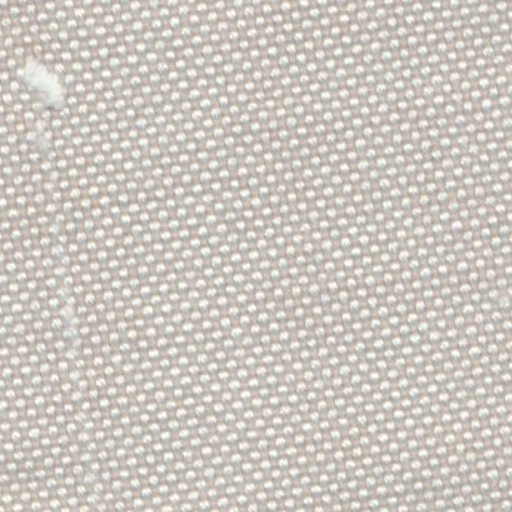MianQiu: (4, 42, 84, 118)
